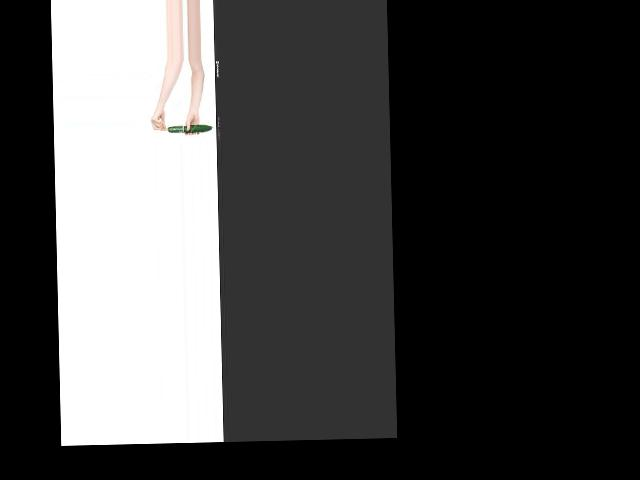cucumber: (167, 125, 213, 133)
